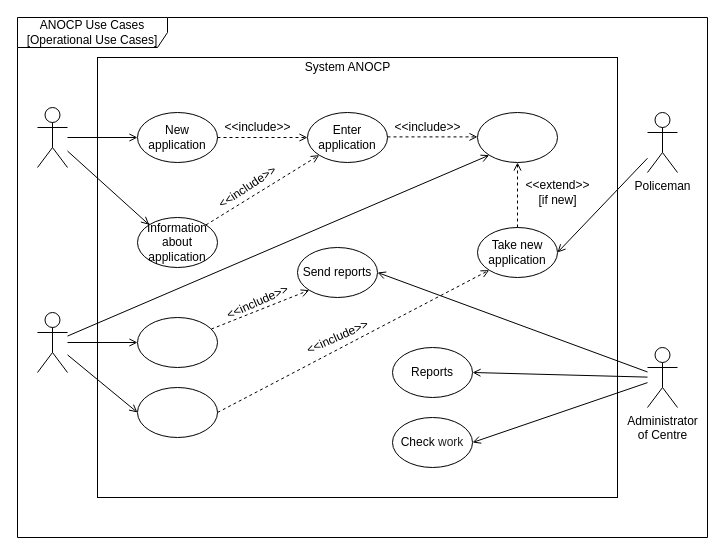
Image size: 725x555. Some labels were removed from this diagram. Here are the shapes that lost their labels. From the top down, the centre of each, then its label:
the point at 52,137: Customer
the point at 517,137: Check application status
the point at 52,342: Manager
the point at 177,342: Check the system
the point at 177,412: Check application
